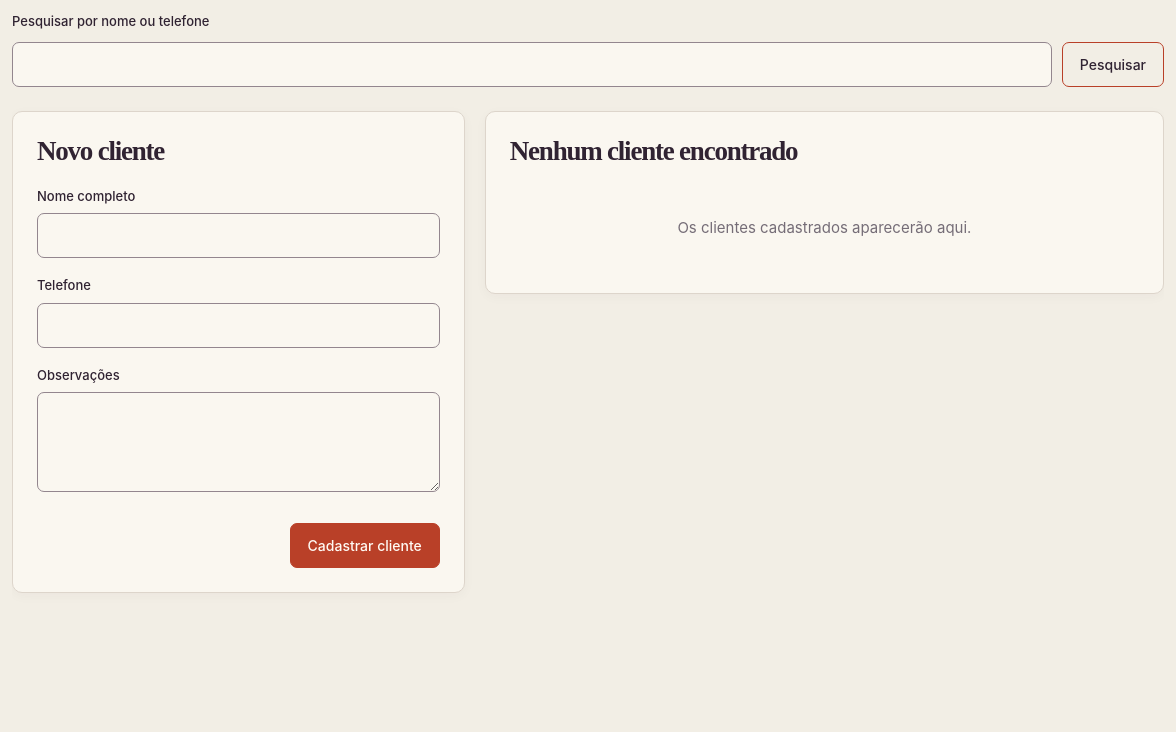
Test: client list and edit presentation › resets the saved form safely and retains server error feedback
Type "Cliente de teste" into the field labelled "Nome completo".
click(238, 236); type("Cliente de teste")  # box [37,213,440,258]
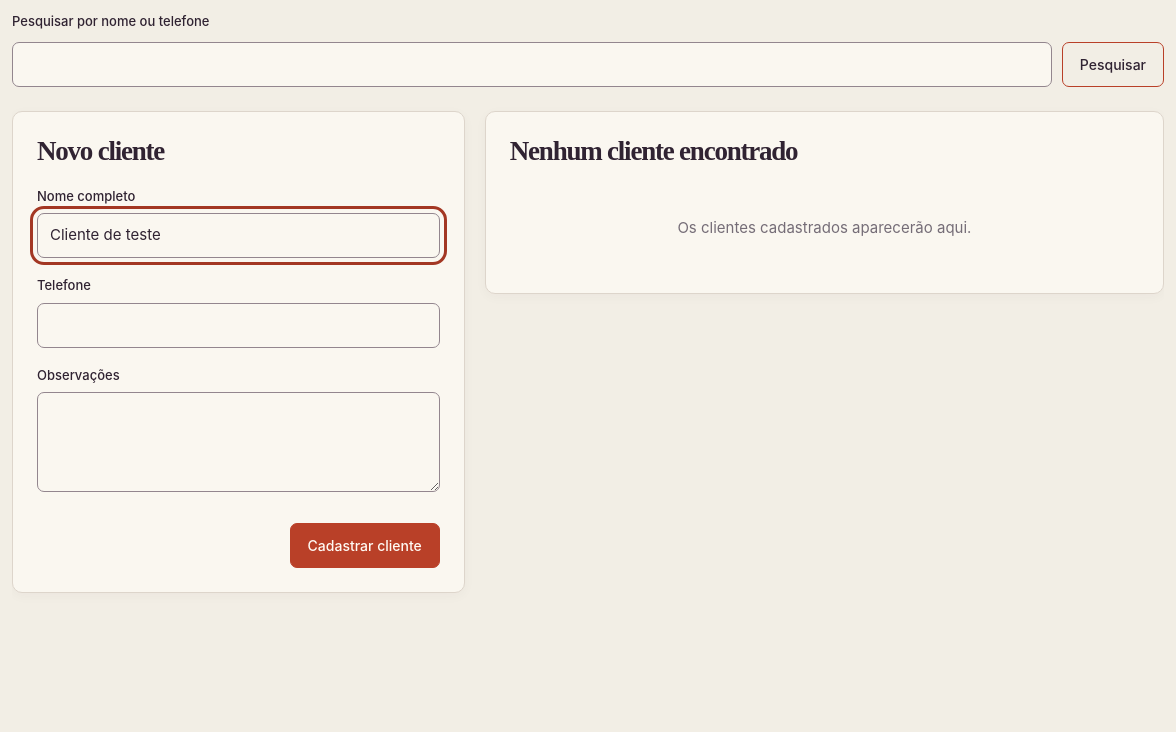
Click the button "Cadastrar cliente".
click(365, 545)  # box [290,522,440,568]
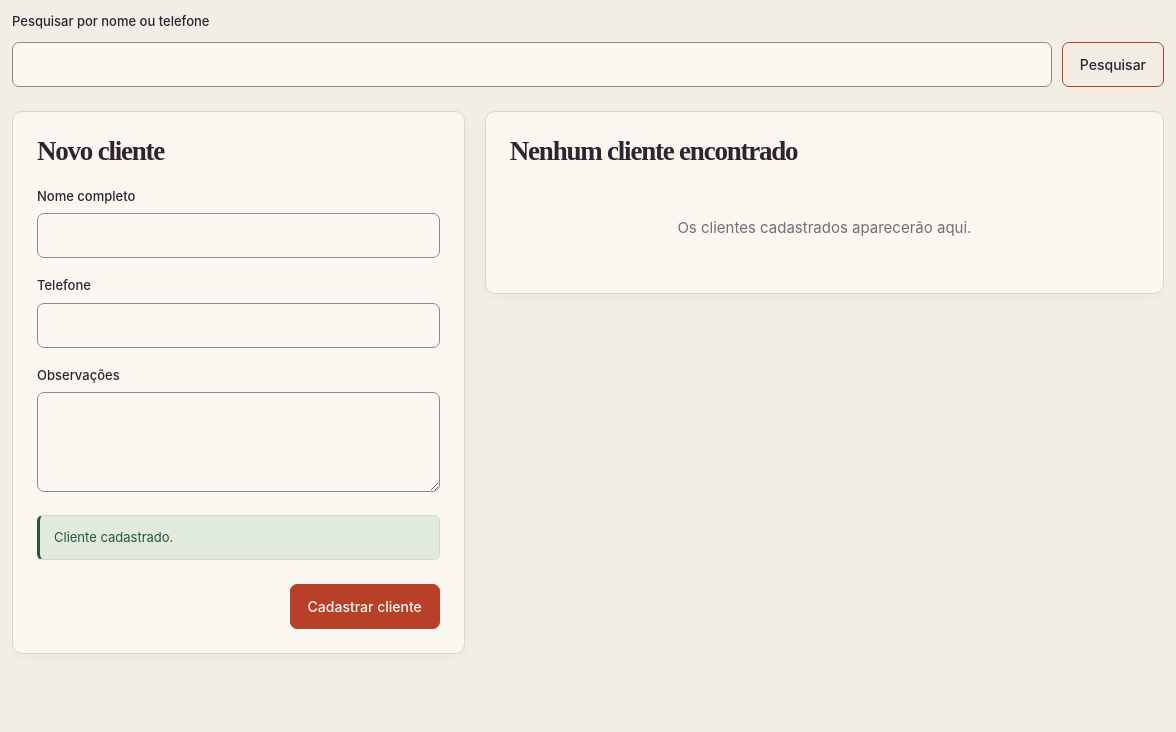
Expected: the message reads "Cliente cadastrado.", [54,528,173,544]
Expected: the field labelled "Nome completo" is empty
Type "Cliente de teste" into the field labelled "Nome completo".
click(238, 236); type("Cliente de teste")  # box [37,213,440,258]
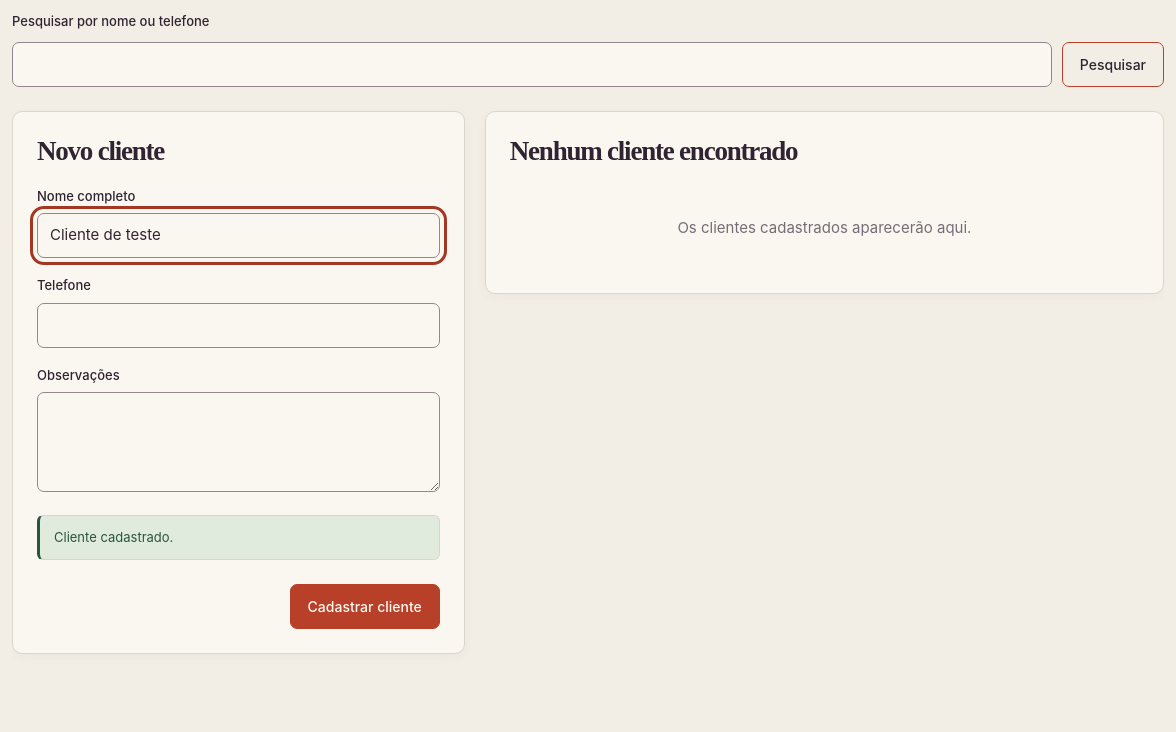
Click the button "Cadastrar cliente".
click(365, 606)  # box [290,584,440,629]
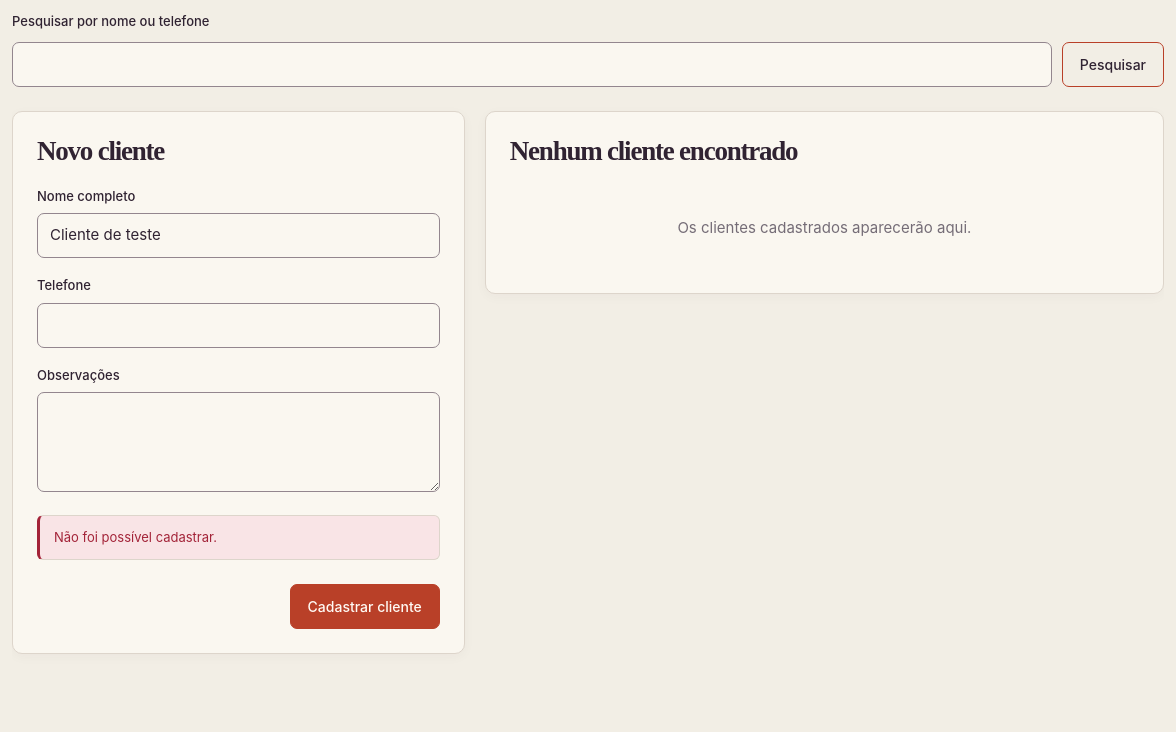
Expected: the message reads "Não foi possível cadastrar.", [54,528,217,544]
